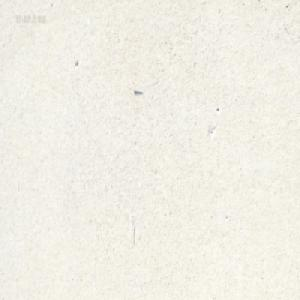Nail: (133, 88, 143, 93)
